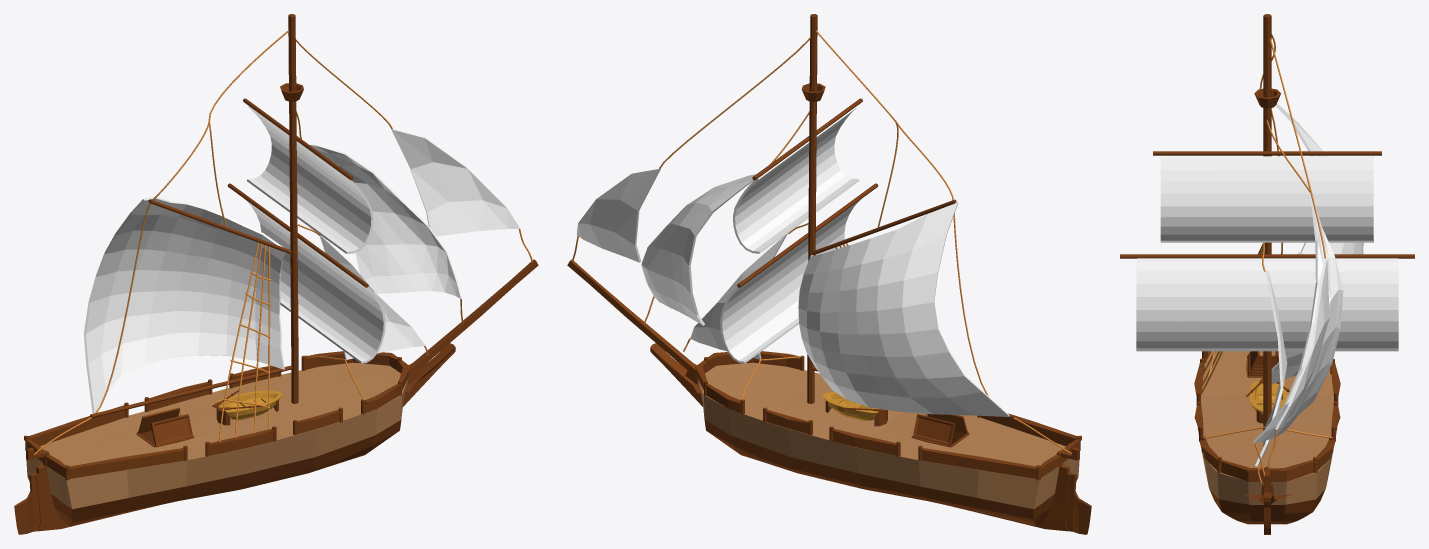
Rendered from ships_01_sloop.fbx.
The picture shows the model from 3 angles, left to right: view 1: azimuth 30°, elevation 25°; view 2: azimuth 150°, elevation 25°; view 3: azimuth 270°, elevation 25°; orthographic projection. The views are drawn at different scales.
Visible parts, largest first — view 1: Flags.010, Base.013, Rail.003, Mast.013, Quill.008, BezierCurve.001, Lower deck door.008, Boat.006; view 2: Flags.010, Base.013, Rail.003, Mast.013, Quill.008, BezierCurve.001, Lower deck door.008, Boat.006; view 3: Flags.010, Base.013, Mast.013, Rail.003, BezierCurve.001, Quill.008, Boat.006, Lower deck door.008.
Boxes of the visible parts, x1,y1,x2,y2 form: Flags.010: (83, 106, 520, 413); Base.013: (26, 362, 408, 525); Rail.003: (24, 351, 410, 480); Mast.013: (90, 14, 368, 417); Quill.008: (14, 259, 538, 534); BezierCurve.001: (34, 30, 532, 454); Lower deck door.008: (136, 407, 194, 447); Boat.006: (215, 390, 281, 420); Flags.010: (576, 106, 1009, 416); Base.013: (697, 362, 1079, 525); Rail.003: (695, 351, 1081, 480); Mast.013: (737, 14, 1014, 418); Quill.008: (567, 259, 1091, 534); BezierCurve.001: (572, 30, 1071, 454); Lower deck door.008: (911, 414, 969, 447); Boat.006: (822, 391, 882, 420); Flags.010: (1136, 103, 1398, 466); Base.013: (1197, 351, 1337, 524); Mast.013: (1120, 14, 1414, 430); Rail.003: (1194, 351, 1340, 481); BezierCurve.001: (1200, 34, 1332, 482); Quill.008: (1244, 468, 1290, 534); Boat.006: (1249, 381, 1287, 414); Lower deck door.008: (1246, 351, 1278, 377).
Size of the model in its own units: 6020 by 5018 by 2741.
